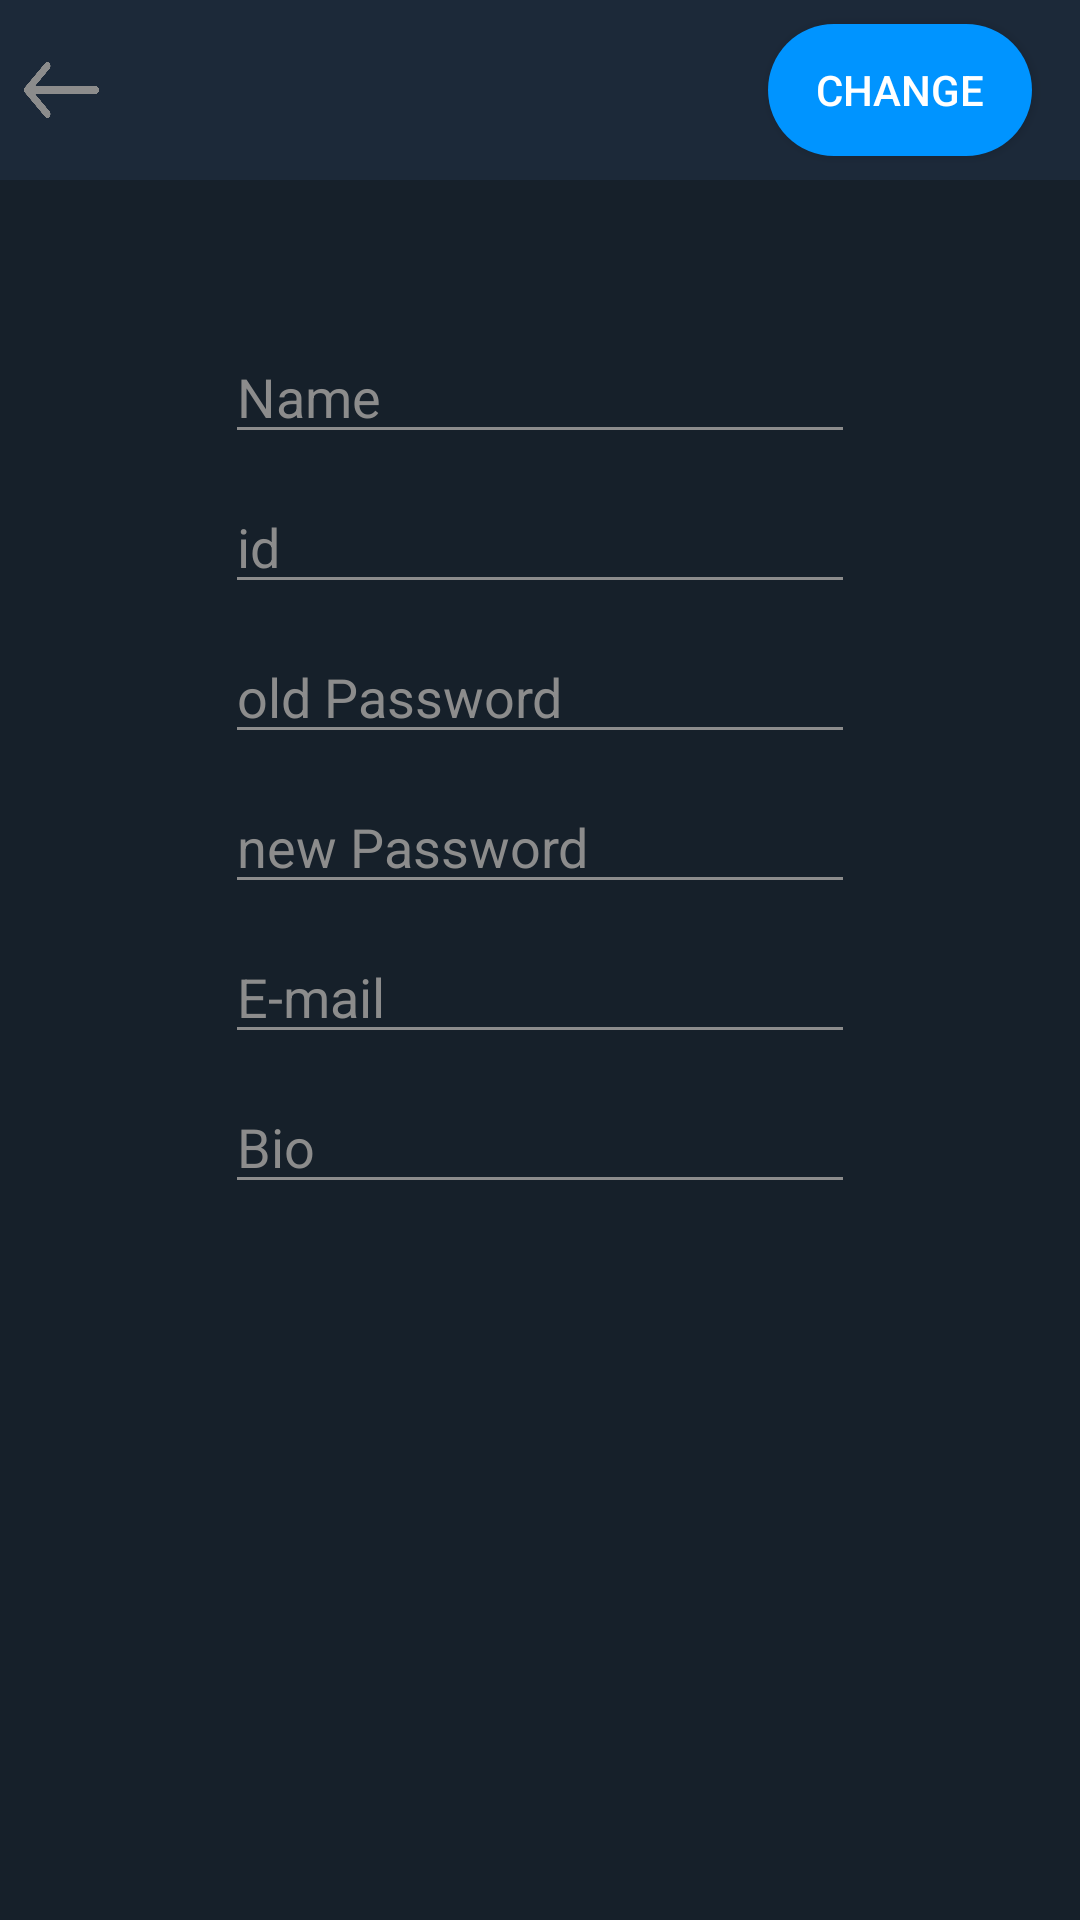

Point at icon controls on the screen. Image size 1080×1920, points as [x,y].
back: [61,90]
